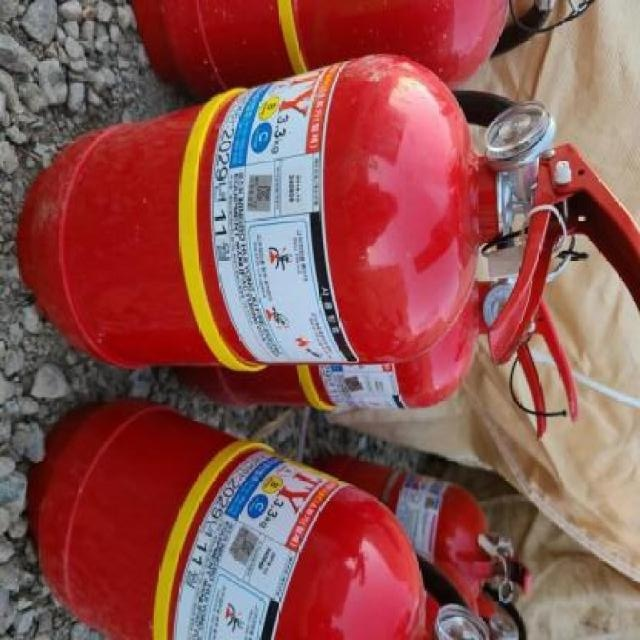fire extinguisher: (17, 54, 640, 372), (26, 395, 491, 640), (187, 278, 578, 438), (128, 0, 597, 89), (312, 451, 531, 605)
